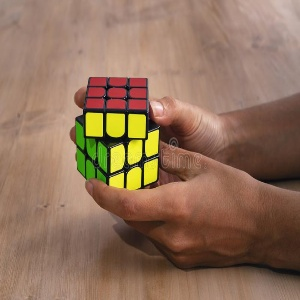cube: (75, 77, 159, 191)
